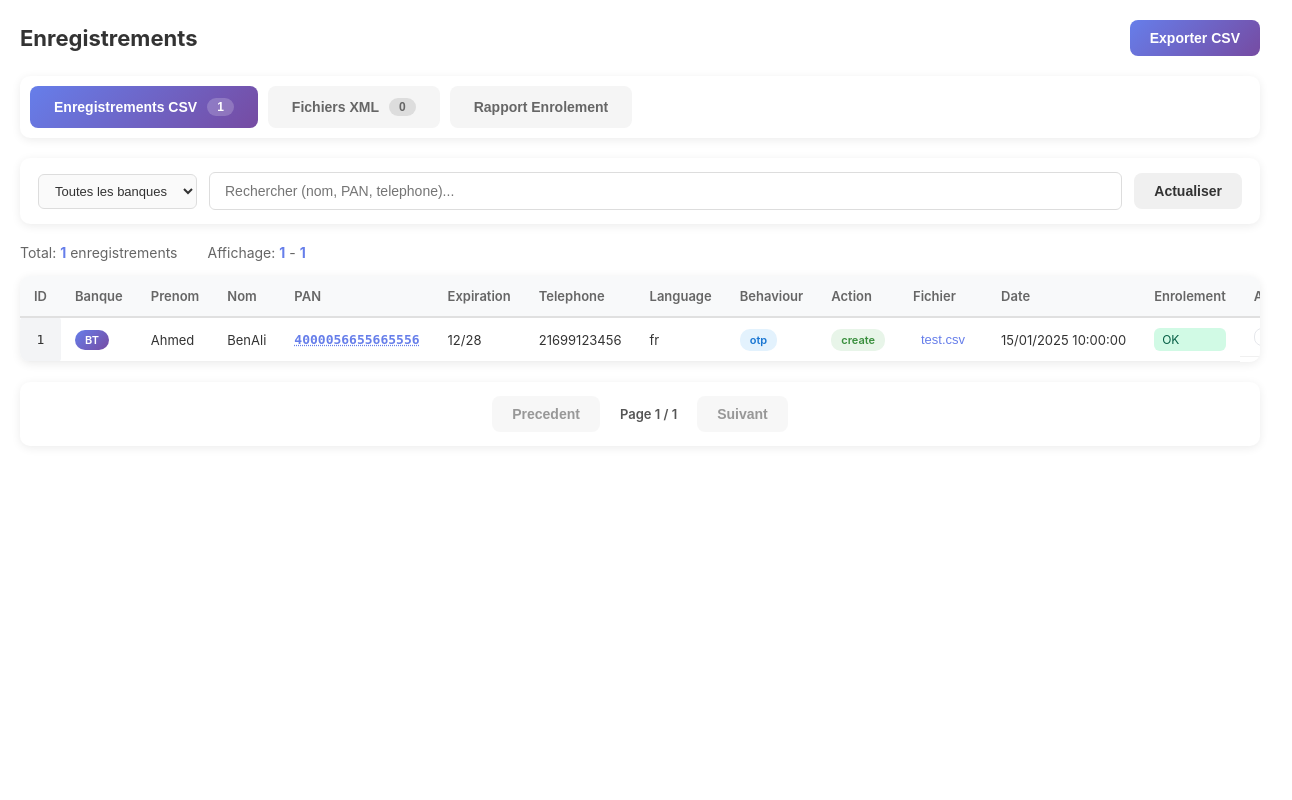
Records › renders enrollment upload section for super_admin
Check: the heading "Enregistrements" is shown, box 20,25 -> 198,51
Click the button "Rapport Enrolement". click: (541, 107)
box: 450,86 -> 632,128
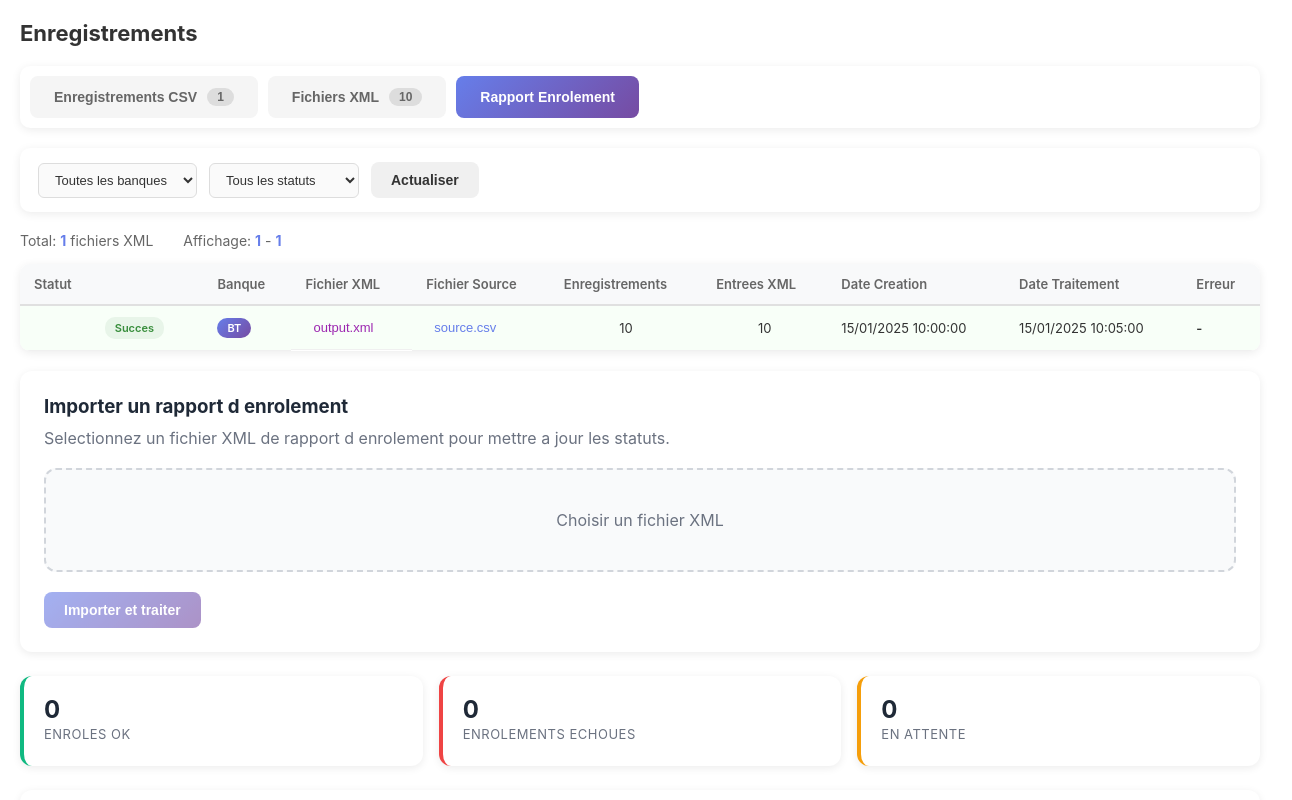
Check: the heading "Importer un rapport d enrolement" is shown, box 44,394 -> 348,418
Check: the text "Choisir un fichier XML" is shown, box 556,510 -> 724,530
Check: the button "Importer et traiter" is shown, box 44,592 -> 201,628
